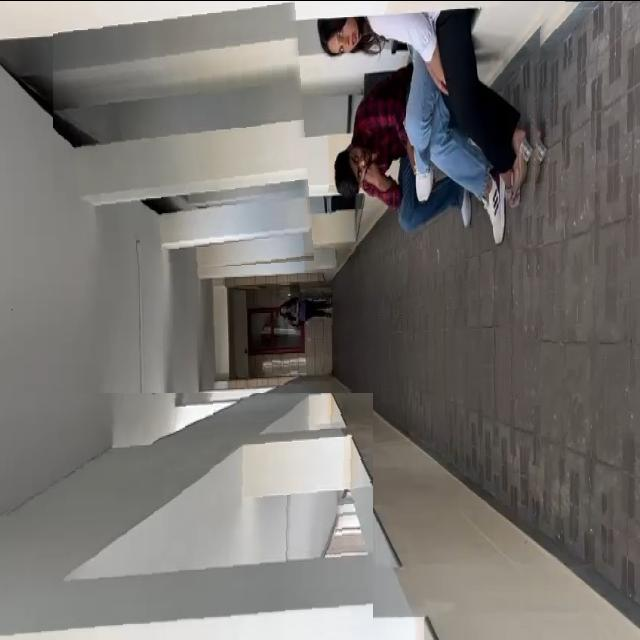floor: (522, 0, 640, 528), (326, 248, 523, 392)
wall: (0, 392, 373, 640), (53, 0, 314, 277)
